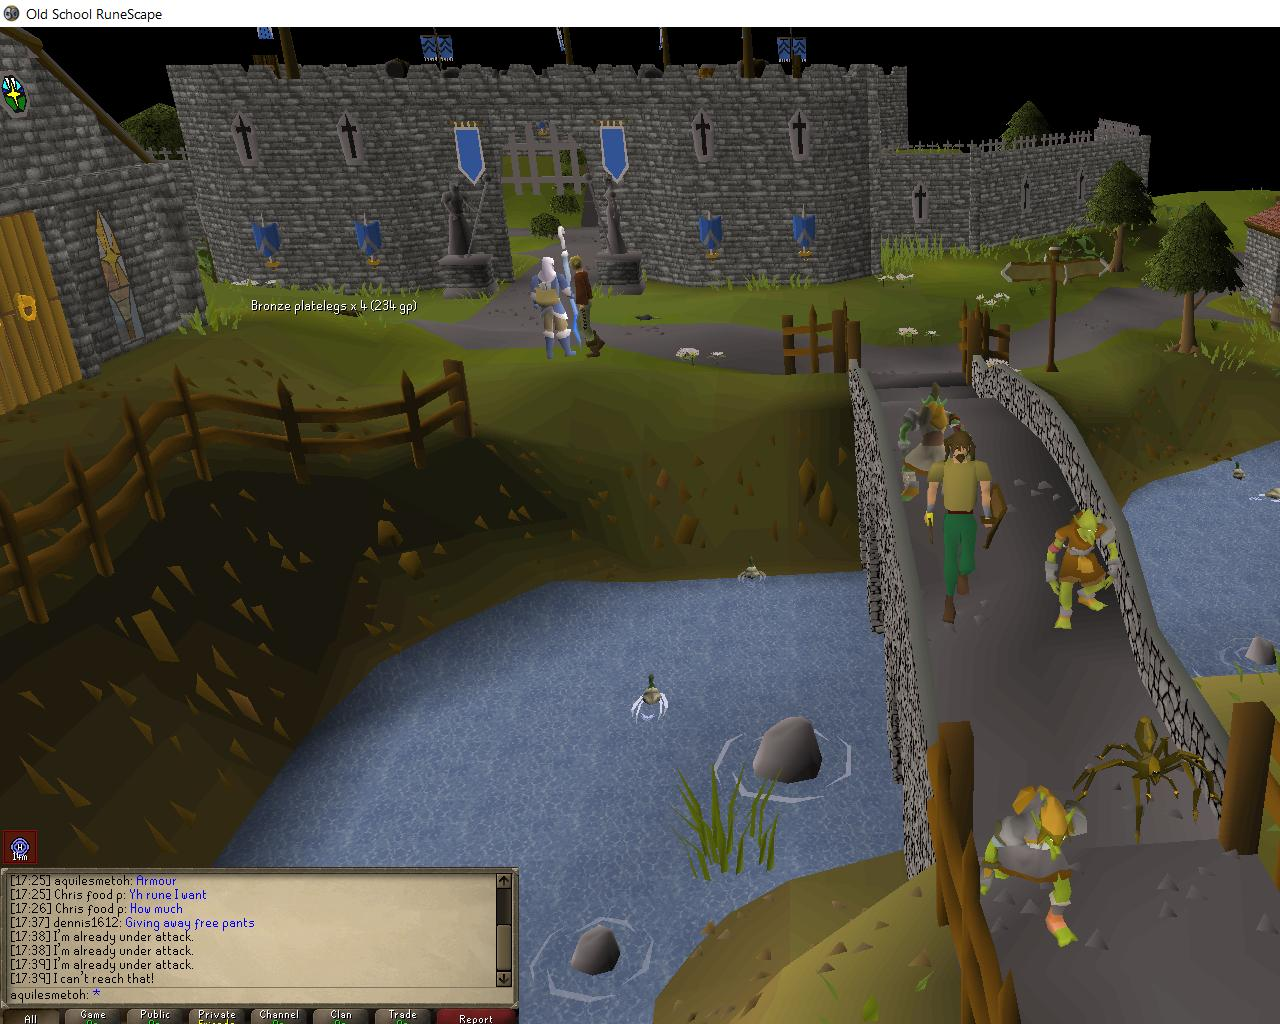Goblin: (977, 783, 1094, 949), (886, 383, 971, 504), (1040, 508, 1119, 631)
